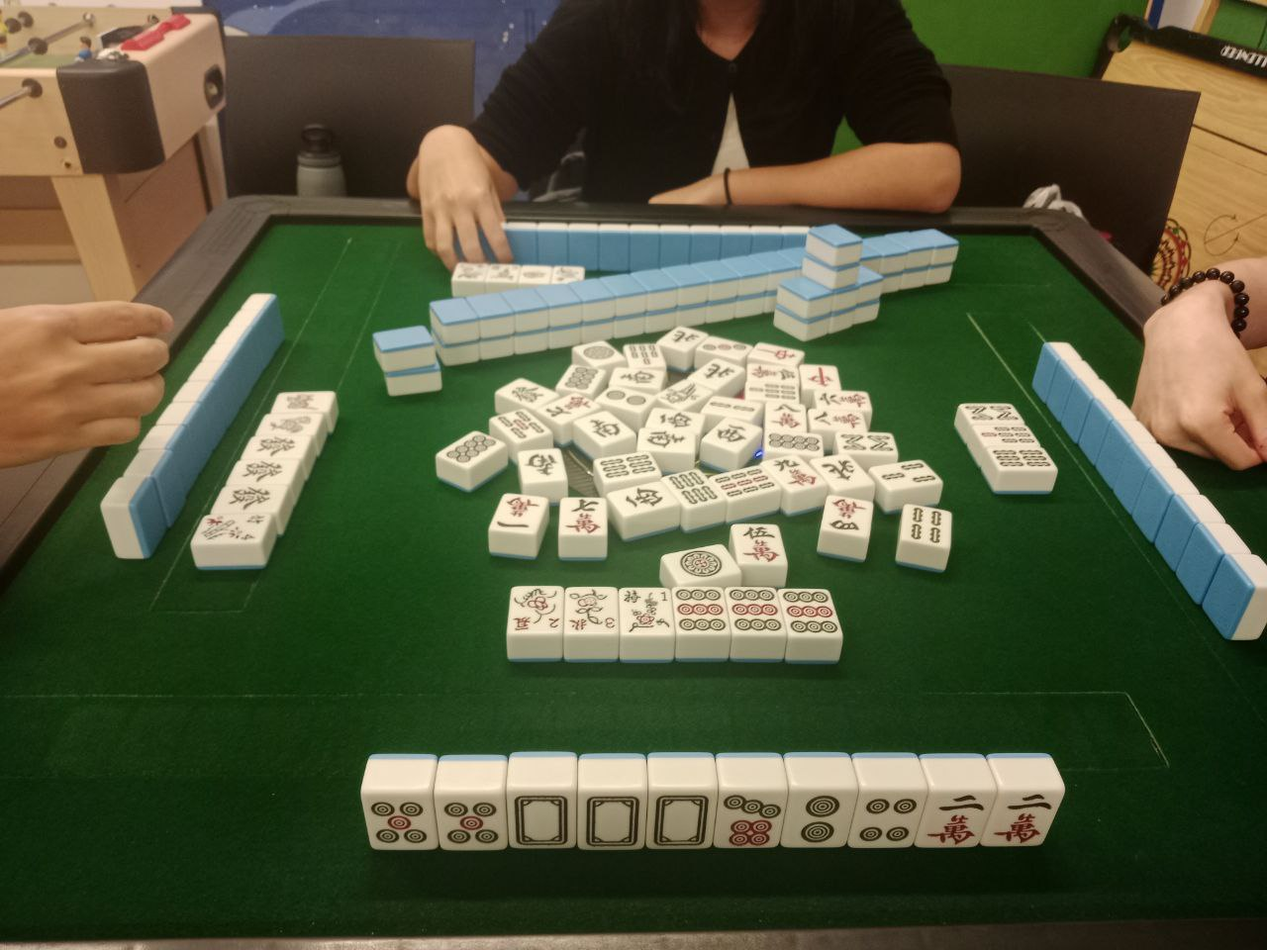TILE: (361, 787, 439, 852), (717, 788, 787, 853), (577, 789, 649, 852), (921, 788, 994, 850), (987, 790, 1065, 848), (434, 792, 509, 851), (854, 787, 926, 848), (508, 790, 576, 850), (788, 788, 856, 848), (650, 791, 718, 850), (782, 586, 842, 640), (506, 584, 564, 637), (724, 585, 781, 635), (562, 585, 621, 633), (619, 586, 674, 637), (671, 586, 729, 633)
